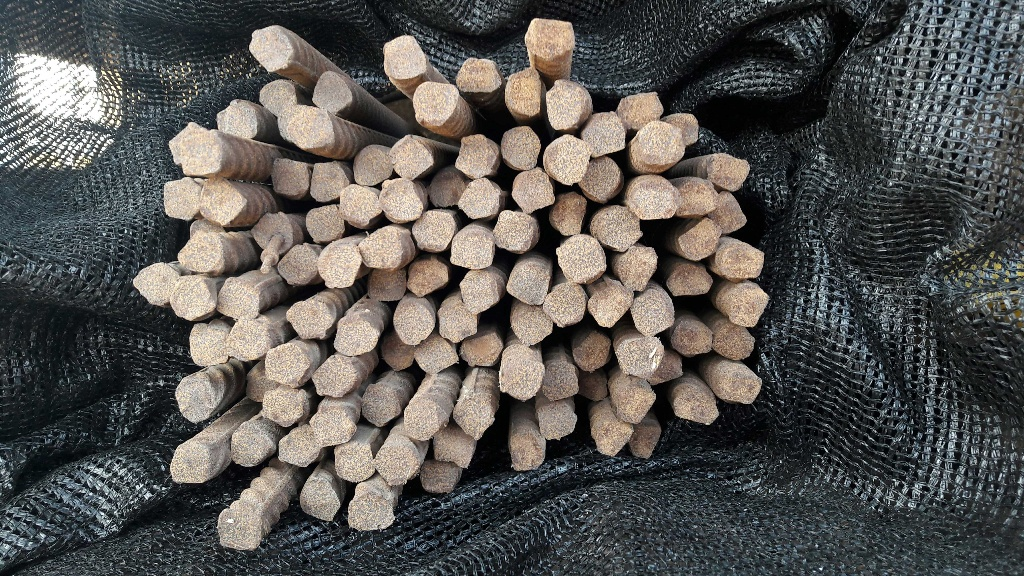dipstick: (244, 26, 295, 74), (590, 205, 641, 250), (557, 233, 605, 280), (283, 105, 329, 151), (629, 175, 678, 218), (299, 477, 342, 526), (676, 217, 722, 262), (546, 80, 590, 127), (638, 123, 686, 166), (229, 425, 274, 470), (393, 298, 436, 345), (250, 214, 294, 259), (403, 397, 447, 442), (347, 489, 395, 530), (546, 135, 586, 184), (582, 111, 625, 156), (499, 357, 542, 402), (311, 356, 356, 399), (198, 178, 244, 220), (510, 171, 557, 212), (528, 17, 576, 57), (185, 324, 234, 363), (719, 239, 764, 281), (507, 262, 549, 307), (371, 444, 417, 485), (716, 367, 763, 407), (412, 82, 457, 123), (381, 178, 422, 223), (725, 285, 770, 326), (432, 426, 477, 467), (171, 379, 216, 420), (583, 154, 623, 200), (616, 246, 656, 292), (673, 387, 720, 426), (264, 387, 312, 425), (340, 185, 382, 228), (360, 384, 403, 426), (266, 345, 308, 388), (179, 132, 223, 173), (588, 287, 632, 328), (285, 300, 329, 341), (132, 264, 177, 304), (503, 124, 541, 171), (217, 278, 259, 320), (543, 284, 585, 326), (455, 134, 496, 177), (630, 293, 673, 334), (320, 246, 361, 289), (360, 229, 404, 269), (171, 446, 215, 486), (452, 229, 494, 270), (458, 271, 499, 313), (436, 298, 478, 339), (173, 277, 213, 320), (382, 36, 426, 75), (278, 427, 322, 466), (412, 336, 461, 371), (311, 409, 356, 447), (161, 178, 202, 219), (453, 397, 494, 438), (492, 211, 532, 253), (393, 135, 432, 178), (214, 100, 258, 138), (456, 56, 502, 92), (312, 71, 351, 113), (178, 232, 220, 271), (227, 321, 269, 360), (508, 69, 542, 117), (616, 339, 662, 374), (333, 446, 379, 481), (280, 245, 319, 286), (303, 204, 345, 242), (458, 179, 500, 217), (412, 212, 454, 250), (707, 153, 750, 190), (614, 384, 658, 420), (541, 361, 580, 401), (507, 431, 547, 470), (672, 322, 714, 359), (510, 307, 552, 344), (459, 331, 501, 368), (331, 322, 379, 354), (258, 76, 296, 116), (220, 514, 260, 552), (619, 91, 663, 125), (272, 157, 308, 198), (351, 147, 392, 183), (675, 179, 717, 214), (238, 369, 276, 407), (716, 325, 756, 361), (715, 191, 748, 234), (668, 264, 712, 296), (311, 162, 348, 200), (573, 332, 611, 368), (539, 406, 578, 441), (407, 261, 449, 293), (371, 266, 409, 301), (166, 124, 200, 163), (419, 459, 456, 494), (596, 421, 630, 459), (430, 168, 462, 208), (553, 198, 588, 234), (574, 369, 610, 404), (380, 337, 416, 372), (649, 352, 684, 384), (629, 425, 661, 460), (185, 215, 223, 243), (664, 113, 698, 143)
